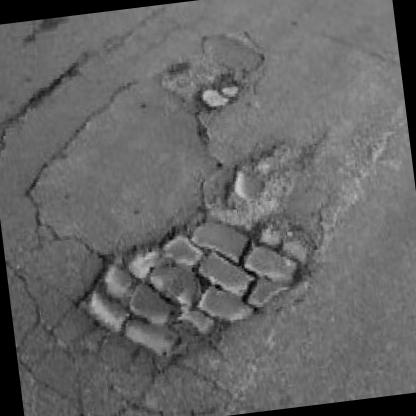pothole: (64, 201, 328, 376), (212, 136, 306, 223), (194, 70, 244, 112)
